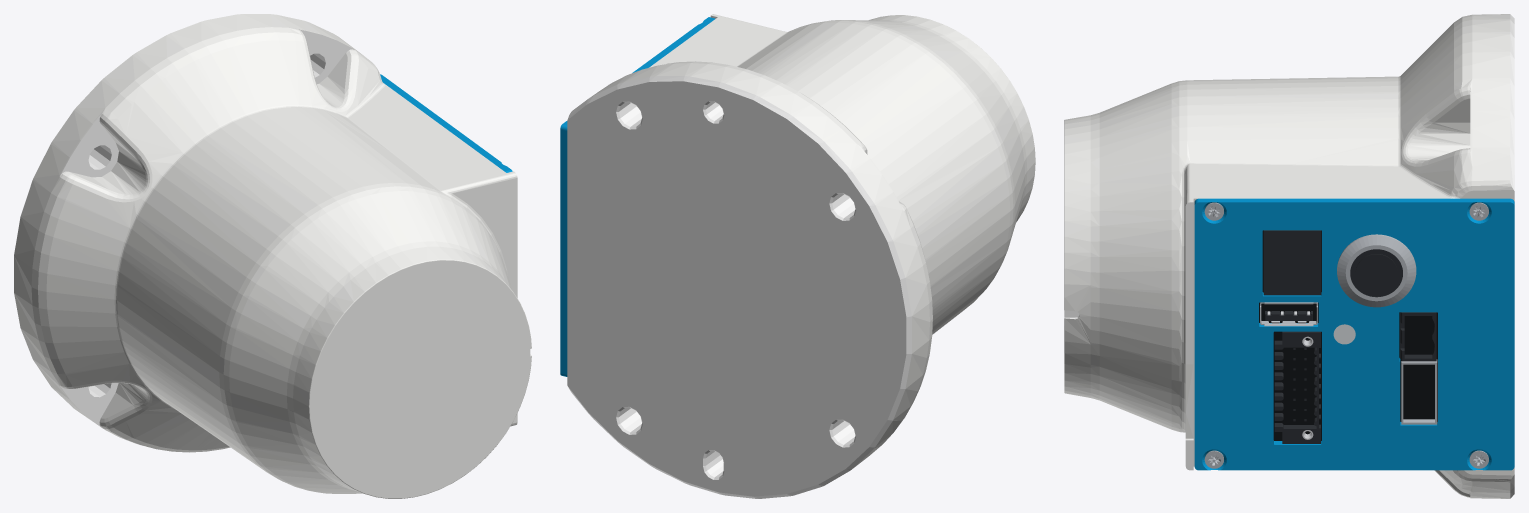
3 renders of one model, left to right at view 1: azimuth 30°, elevation 25°; view 2: azimuth 150°, elevation 25°; view 3: azimuth 270°, elevation 25°, orthographic. The views are drawn at different scales.
Parts seen in each view (by area): view 1: Link; view 2: Link; view 3: Link.
Boxes of the visible parts, <box> form: Link: <box>14,14,531,498</box>; Link: <box>560,14,1035,498</box>; Link: <box>1064,14,1514,498</box>.
Size of the model in its own units: 0.0991 by 0.1099 by 0.102.
